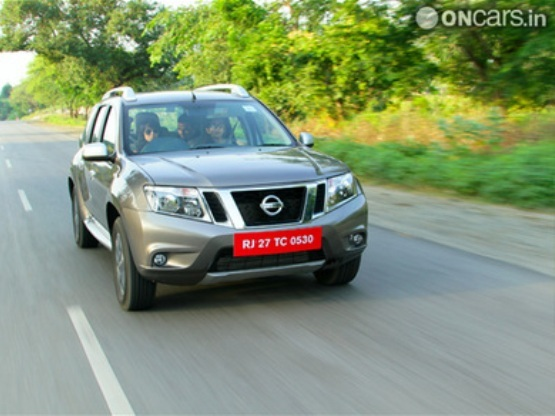number_plate: (229, 230, 324, 261)
